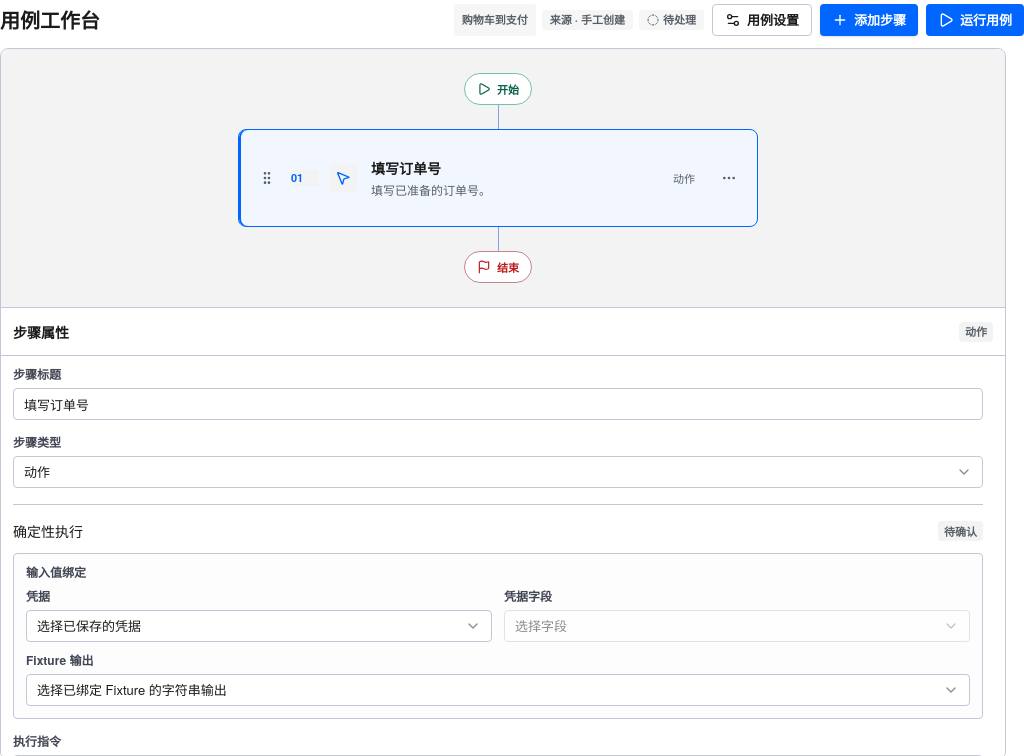
it: TestCaseManagementPage › offers only mapped string outputs from Fixture versions bound to the edited Case
Click the dropdown named "Fixture 输出" at [132, 690], box [26, 674, 970, 706]
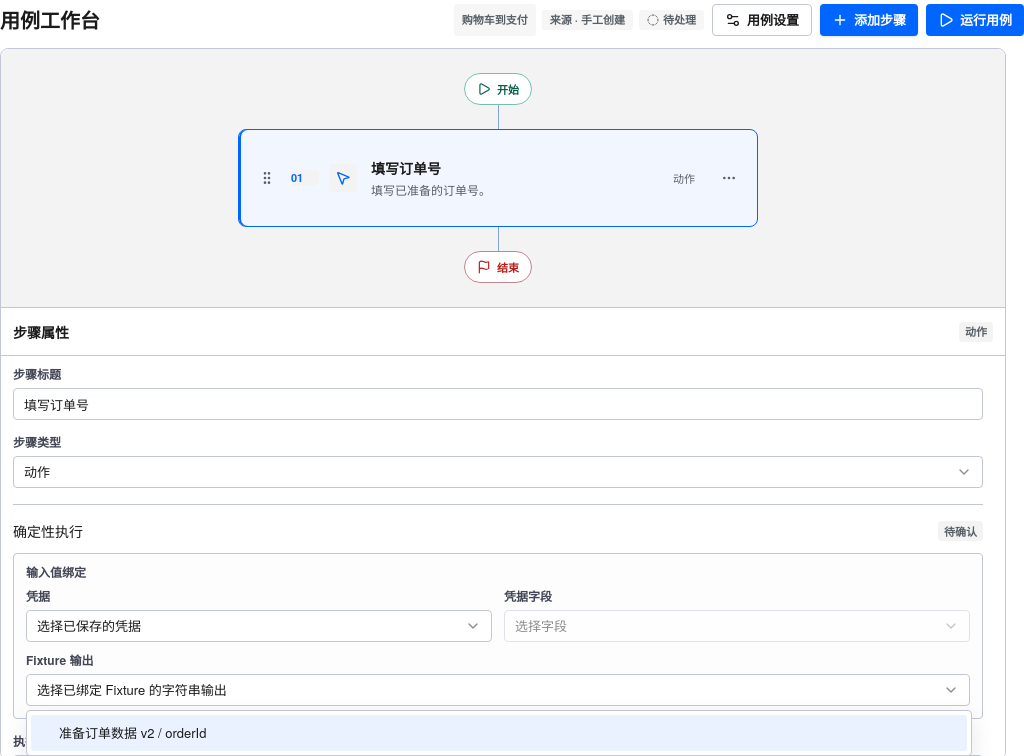
Expected: the option "准备订单数据 v2 / orderId" is shown
Click the option "准备订单数据 v2 / orderId" at [98, 733], box [31, 715, 967, 751]
(page scrolled)
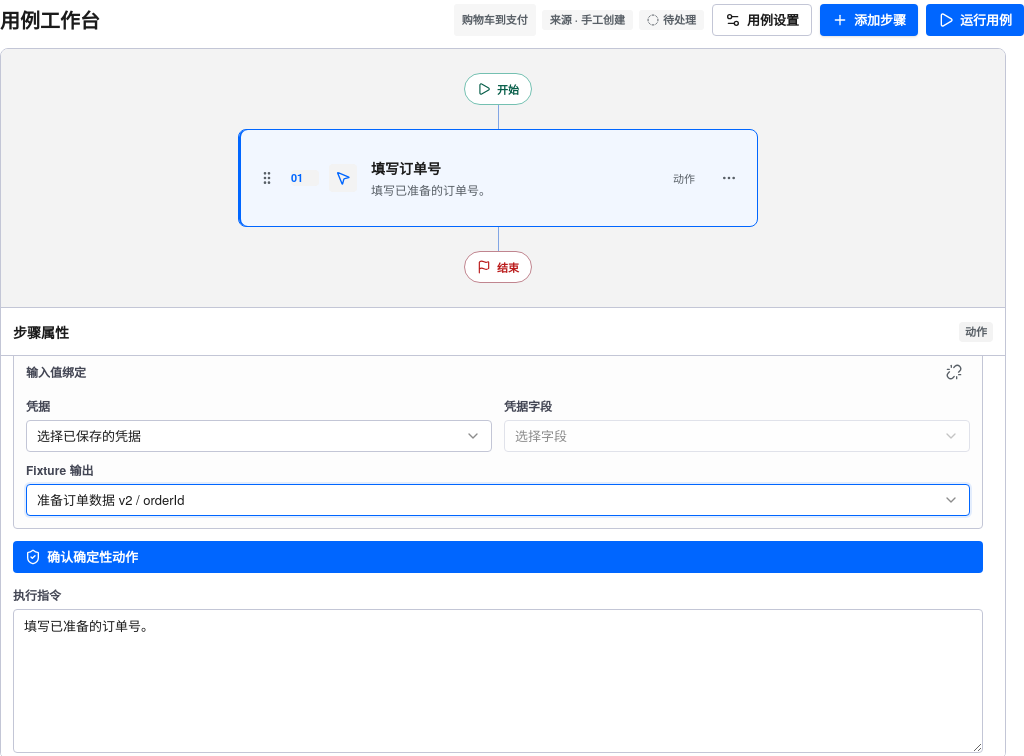
Expected: the button "确认确定性动作" is shown, [13, 541, 983, 573]
